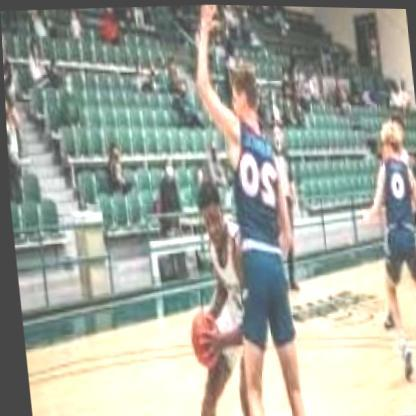basketball: (184, 300, 226, 367)
